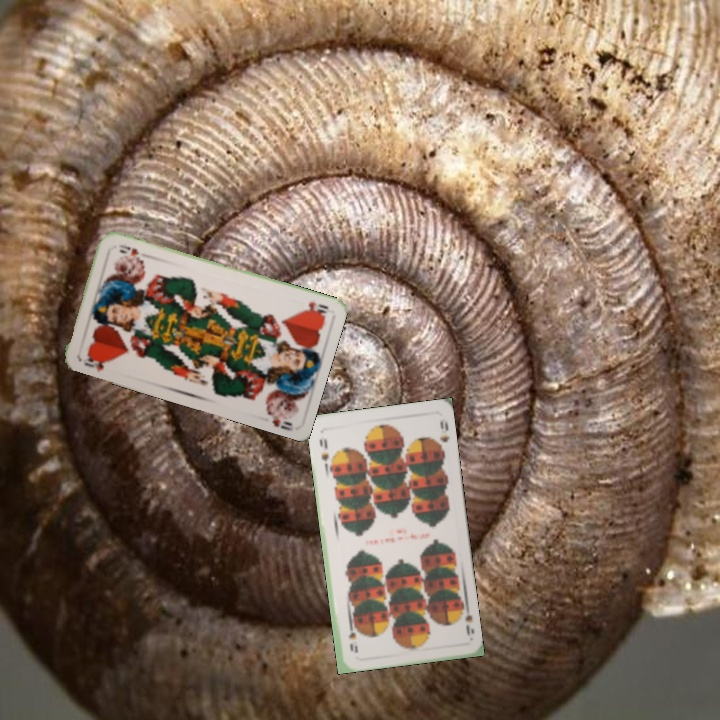HO: (80, 351, 112, 374), (299, 297, 331, 318)
S9: (454, 600, 477, 641), (315, 434, 334, 469)
